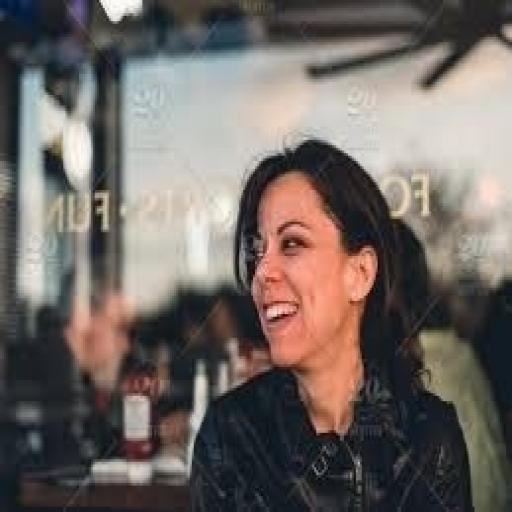laughing: (180, 130, 480, 510)
